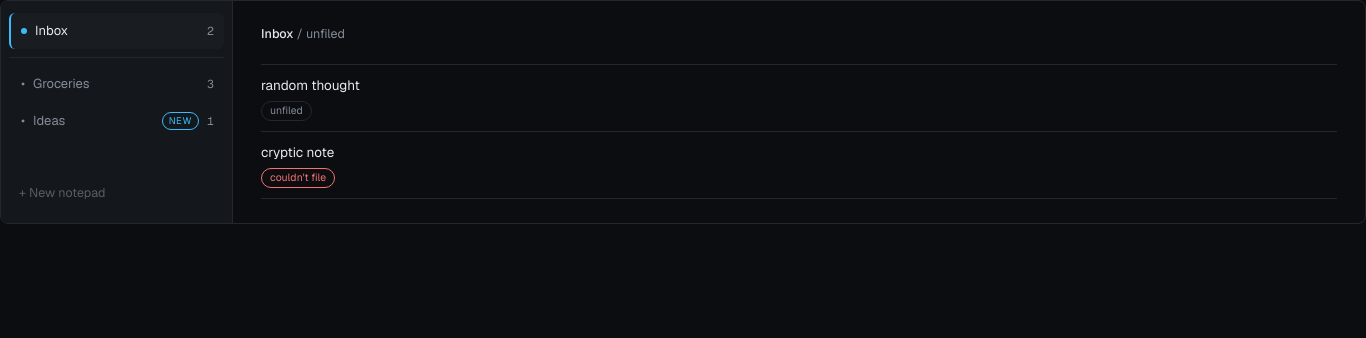
Scenario: Notes manager page — detail pane › swaps to a notepad on rail click and renders its kind and description
Click the button "• Groceries 3" at (116, 83), box [9,66,224,101]
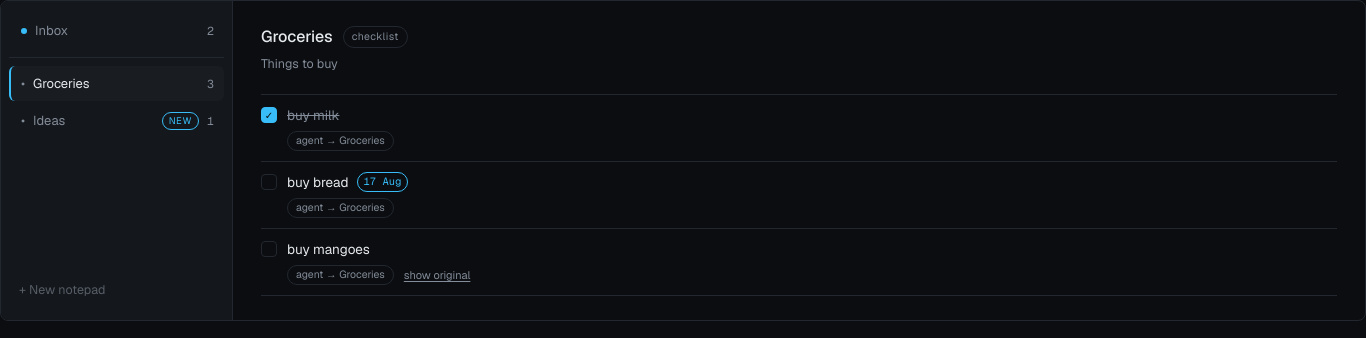
Result: the heading "Groceries" is shown at [261,25,333,49]
Result: the text "checklist" is shown at [343,26,408,48]
Result: the text "Things to buy" is shown at [261,55,338,72]
